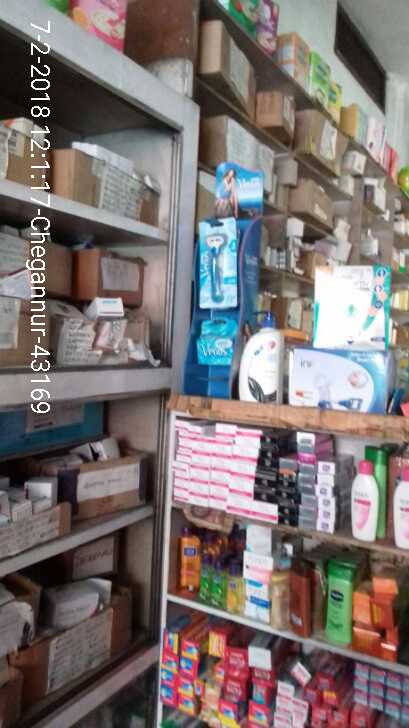venus: (196, 215, 243, 308), (197, 313, 237, 369)
